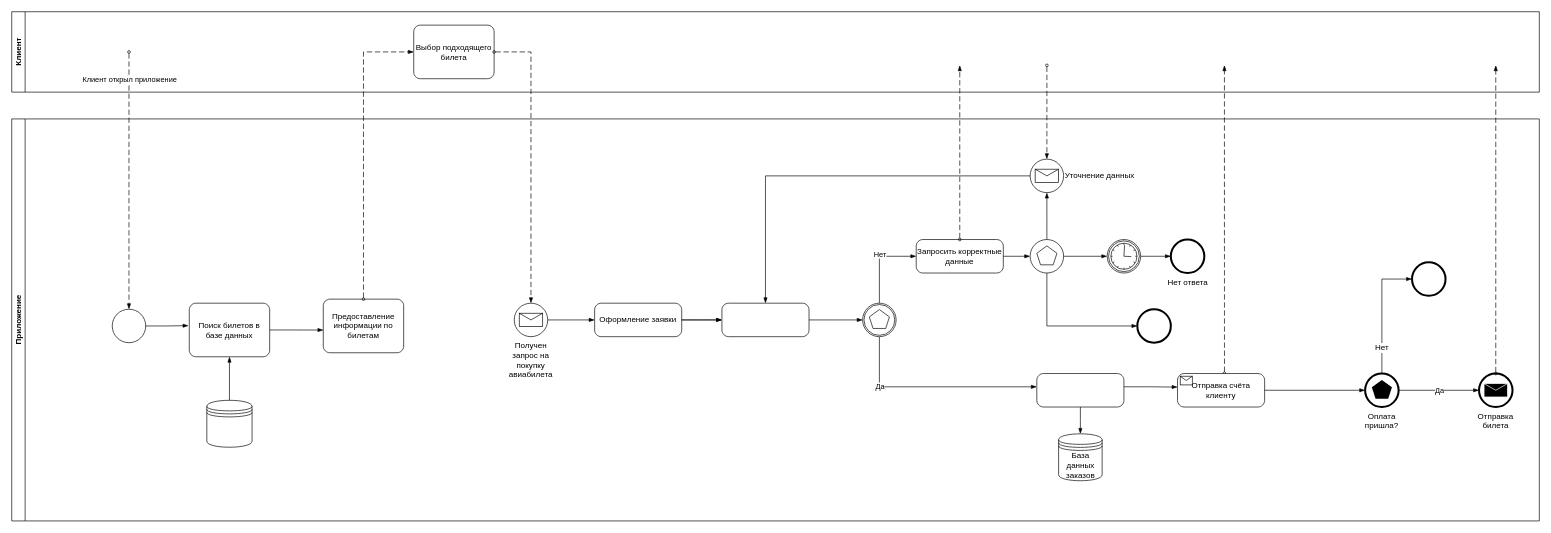
The diagram is 1551 pixels wide and 533 high, and some of its shapes have lost their labels. The shapes that lost their labels are listed below. From the top down, each one's box as (x1, y1, x2, y2) in pixels, then its label:
(1107, 239, 1141, 273): 24 часа
(1411, 262, 1446, 296): Отказ
(721, 303, 809, 337): Проверка заявки на корректность
(862, 303, 896, 337): Заявка корректна?
(1137, 309, 1171, 343): Отказ клиента
(1036, 373, 1124, 407): Добавление заказа в базу данных
(206, 400, 252, 447): База данных билетов
